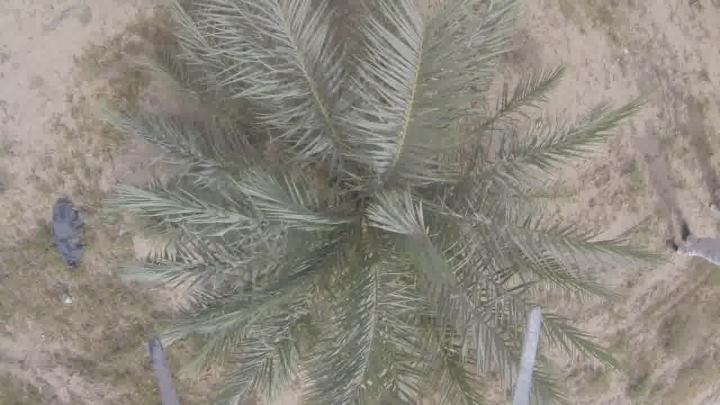Date-Palm-Crown: (226, 61, 506, 357)
